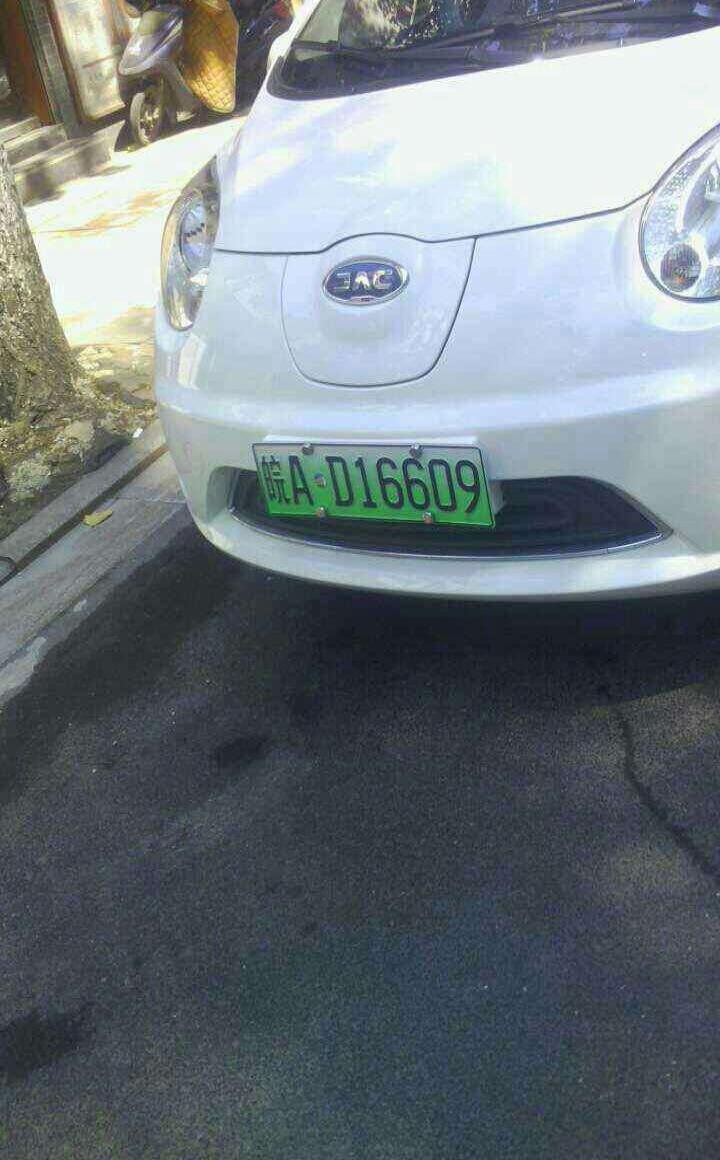car_id: (254, 446, 495, 525)
